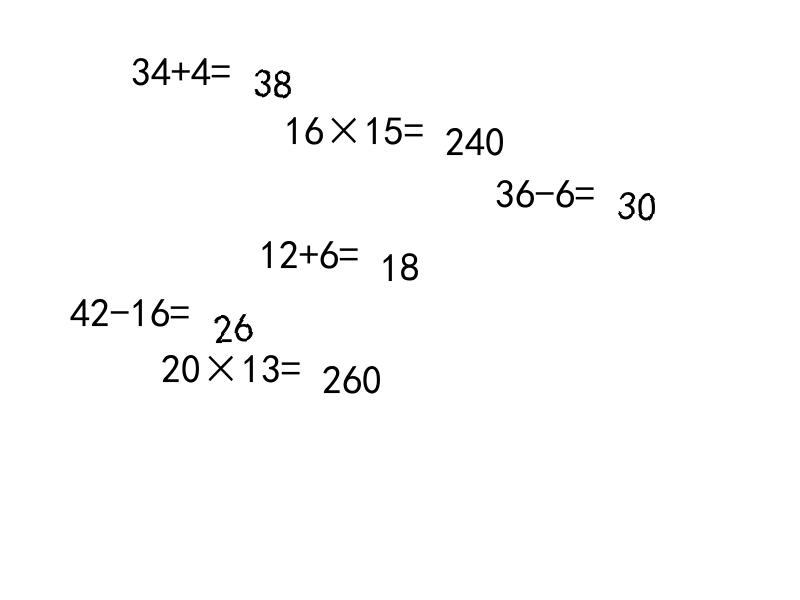+: (171, 51, 191, 80), (299, 234, 319, 263)
-: (535, 173, 555, 202), (110, 292, 130, 321)
0: (181, 348, 201, 378), (351, 348, 371, 378), (625, 173, 645, 202), (474, 110, 494, 138)
1: (241, 348, 261, 378), (259, 234, 279, 263), (369, 234, 389, 263), (130, 292, 150, 321), (284, 110, 304, 138), (364, 110, 384, 138)
2: (161, 348, 181, 378), (311, 348, 331, 378), (279, 234, 299, 263), (90, 292, 110, 321), (200, 292, 220, 321), (434, 110, 454, 138)
3: (261, 348, 281, 378), (131, 51, 151, 80), (241, 51, 261, 80), (495, 173, 515, 202), (605, 173, 625, 202)
4: (151, 51, 171, 80), (191, 51, 211, 80), (70, 292, 90, 321), (454, 110, 474, 138)
5: (384, 110, 404, 138)
6: (331, 348, 351, 378), (515, 173, 535, 202), (555, 173, 575, 202), (319, 234, 339, 263), (150, 292, 170, 321), (220, 292, 240, 321), (304, 110, 324, 138)
8: (261, 51, 281, 80), (389, 234, 409, 263)
=: (281, 348, 301, 378), (211, 51, 231, 80), (575, 173, 595, 202), (339, 234, 359, 263), (170, 292, 190, 321), (404, 110, 424, 138)
×: (201, 348, 241, 378), (324, 110, 364, 138)
